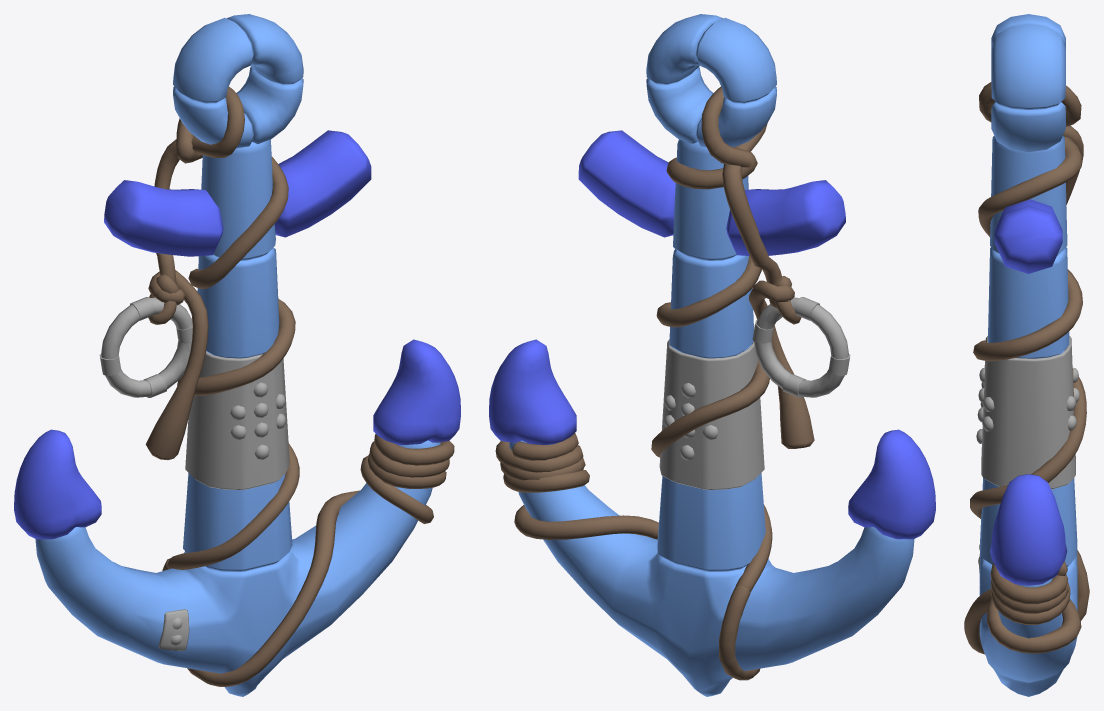
The model's file is Anchor.fbx.
The picture shows the model from 3 angles, left to right: view 1: azimuth 30°, elevation 25°; view 2: azimuth 150°, elevation 25°; view 3: azimuth 270°, elevation 25°; orthographic projection.
Parts seen in each view (by area): view 1: S_Anchor, M_Anchor_11, M_Anchor_13, M_Anchor_10, M_Anchor_12, M_Anchor_15, S_Anchor_, M_Anchor_17, M_Anchor_14, M_Anchor_16, D_Anchor_3; view 2: S_Anchor, M_Anchor_12, M_Anchor_13, M_Anchor_10, M_Anchor_11, M_Anchor_15, S_Anchor_, M_Anchor_14, M_Anchor_17, M_Anchor_16; view 3: S_Anchor, M_Anchor_13, M_Anchor_14, M_Anchor_12, M_Anchor_17, M_Anchor_15.
Part boxes in pixels (left/top/right/bottom): S_Anchor: left=35, top=86, right=454, bottom=696; M_Anchor_11: left=104, top=180, right=223, bottom=256; M_Anchor_13: left=373, top=339, right=460, bottom=445; M_Anchor_10: left=14, top=429, right=101, bottom=539; M_Anchor_12: left=274, top=130, right=371, bottom=237; M_Anchor_15: left=173, top=17, right=253, bottom=103; S_Anchor_: left=101, top=297, right=192, bottom=397; M_Anchor_17: left=236, top=67, right=303, bottom=144; M_Anchor_14: left=227, top=14, right=303, bottom=84; M_Anchor_16: left=173, top=86, right=253, bottom=148; D_Anchor_3: left=158, top=609, right=189, bottom=650; S_Anchor: left=495, top=86, right=914, bottom=696; M_Anchor_12: left=578, top=130, right=675, bottom=237; M_Anchor_13: left=489, top=339, right=576, bottom=444; M_Anchor_10: left=848, top=429, right=935, bottom=539; M_Anchor_11: left=726, top=180, right=845, bottom=255; M_Anchor_15: left=696, top=17, right=776, bottom=103; S_Anchor_: left=754, top=297, right=848, bottom=397; M_Anchor_14: left=646, top=14, right=722, bottom=84; M_Anchor_17: left=646, top=67, right=713, bottom=144; M_Anchor_16: left=696, top=86, right=776, bottom=147; S_Anchor: left=964, top=82, right=1089, bottom=696; M_Anchor_13: left=990, top=474, right=1067, bottom=585; M_Anchor_14: left=991, top=24, right=1065, bottom=109; M_Anchor_12: left=994, top=199, right=1062, bottom=273; M_Anchor_17: left=991, top=102, right=1065, bottom=152; M_Anchor_15: left=991, top=14, right=1065, bottom=49.
Bounding box in the file's own units: 493 × 727 × 123.
